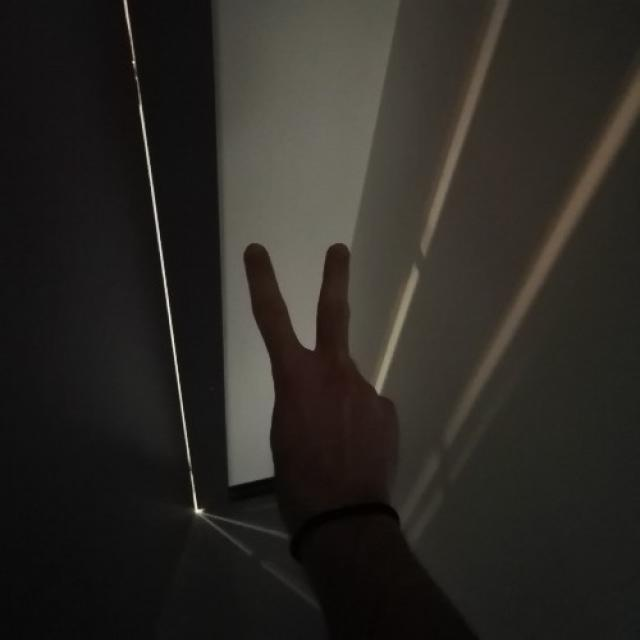scissors: (238, 237, 405, 502)
